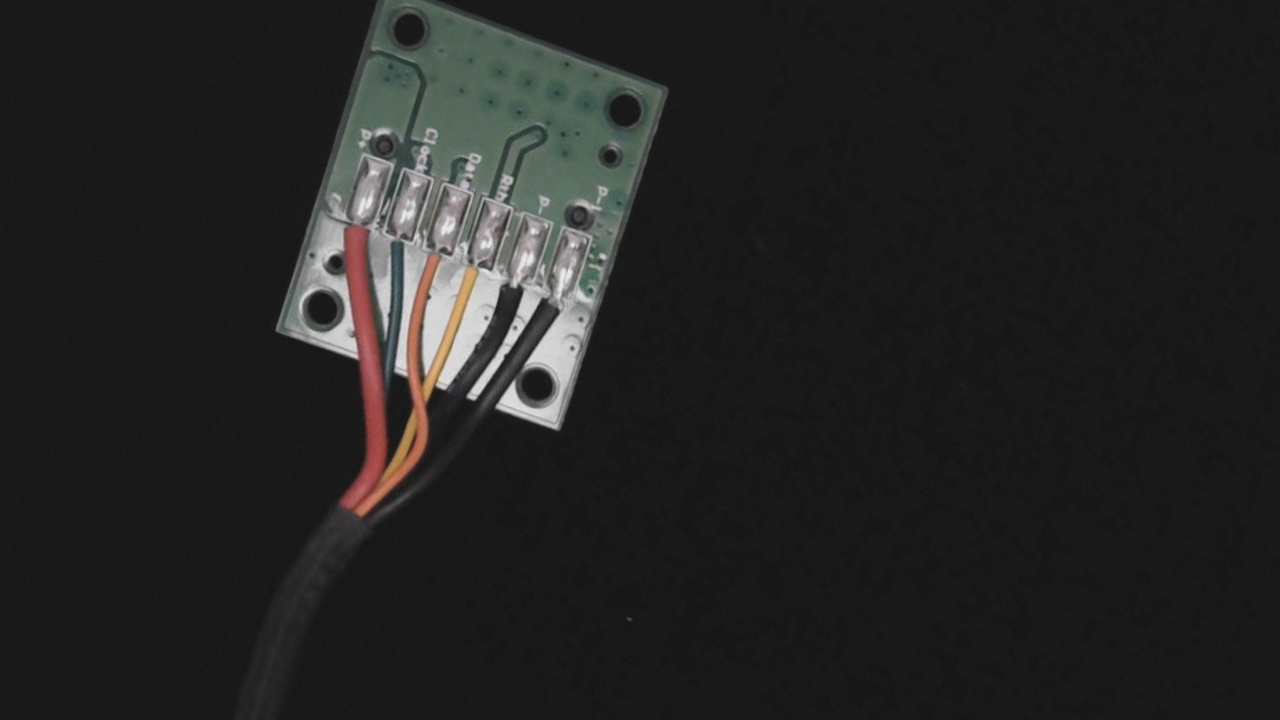Black: (488, 260, 536, 328)
Black1: (527, 274, 577, 344)
Green: (370, 214, 420, 280)
Orange: (408, 230, 460, 296)
Red: (332, 199, 377, 265)
Yellow: (445, 246, 499, 317)
